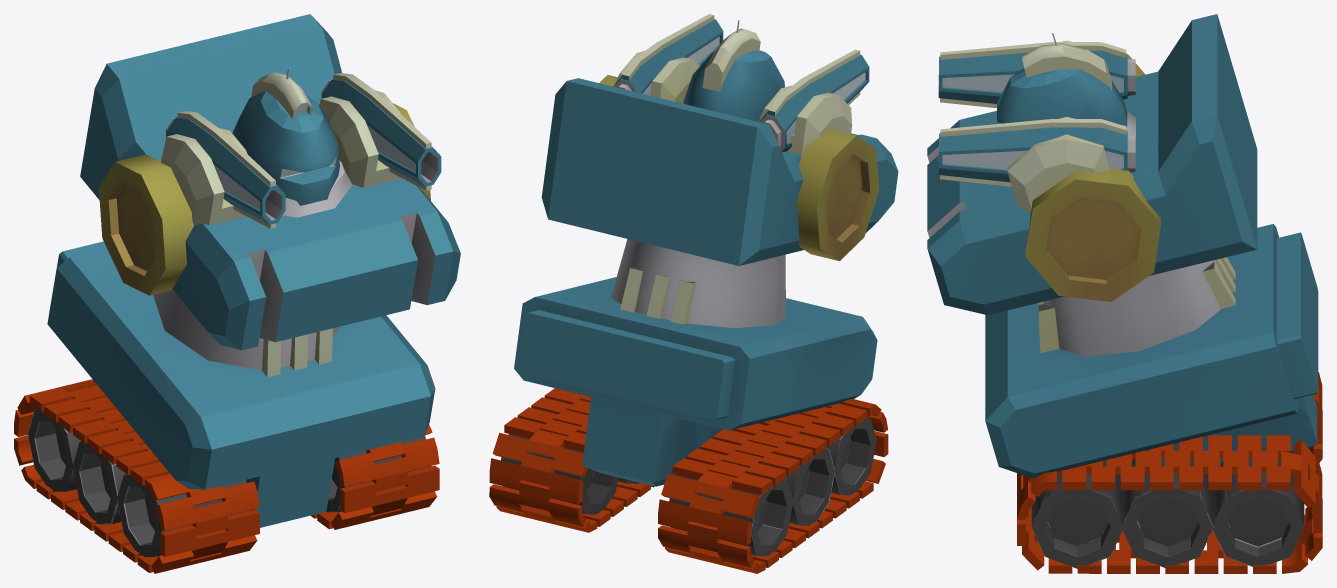
Rendered from player_move7.obj.
The picture shows the model from 3 angles, left to right: view 1: azimuth 30°, elevation 25°; view 2: azimuth 150°, elevation 25°; view 3: azimuth 270°, elevation 25°; orthographic projection. The views are drawn at different scales.
Parts seen in each view (by area): view 1: Object004, Box038, Object012, Object011, Box042; view 2: Object004, Box038, Box042, Object011, Object012; view 3: Object004, Object011, Box042, Object012, Box038.
Part boxes in pixels (left/top/right/bottom): Object004: left=47, top=14, right=460, bottom=527; Box038: left=14, top=379, right=259, bottom=573; Object012: left=165, top=73, right=441, bottom=228; Object011: left=28, top=409, right=431, bottom=556; Box042: left=311, top=424, right=439, bottom=529; Object004: left=514, top=28, right=898, bottom=486; Box038: left=658, top=398, right=888, bottom=573; Box042: left=489, top=388, right=654, bottom=532; Object011: left=501, top=417, right=876, bottom=556; Object012: left=613, top=14, right=869, bottom=152; Object004: left=927, top=14, right=1318, bottom=477; Object011: left=1031, top=444, right=1304, bottom=568; Box042: left=1017, top=435, right=1322, bottom=573; Object012: left=938, top=42, right=1135, bottom=186; Box038: left=1309, top=372, right=1322, bottom=462.
Size of the model in its own units: 110 by 180 by 135.
3 materials, 1 textured.
